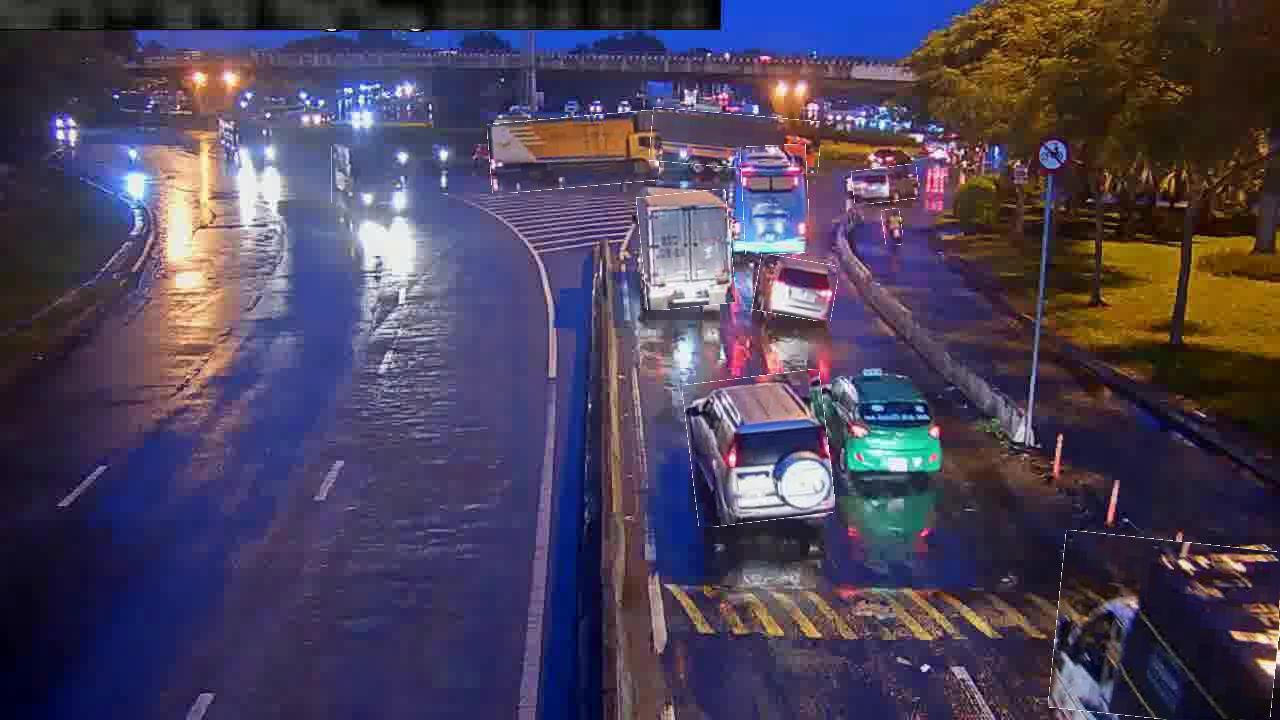14: (742, 145, 809, 255)
8: (1052, 535, 1279, 719), (489, 114, 659, 191), (639, 191, 734, 309), (650, 111, 821, 171), (331, 146, 414, 204)
container: (686, 373, 832, 525), (754, 256, 837, 319), (852, 166, 919, 204)
motorbike: (883, 208, 903, 246)
